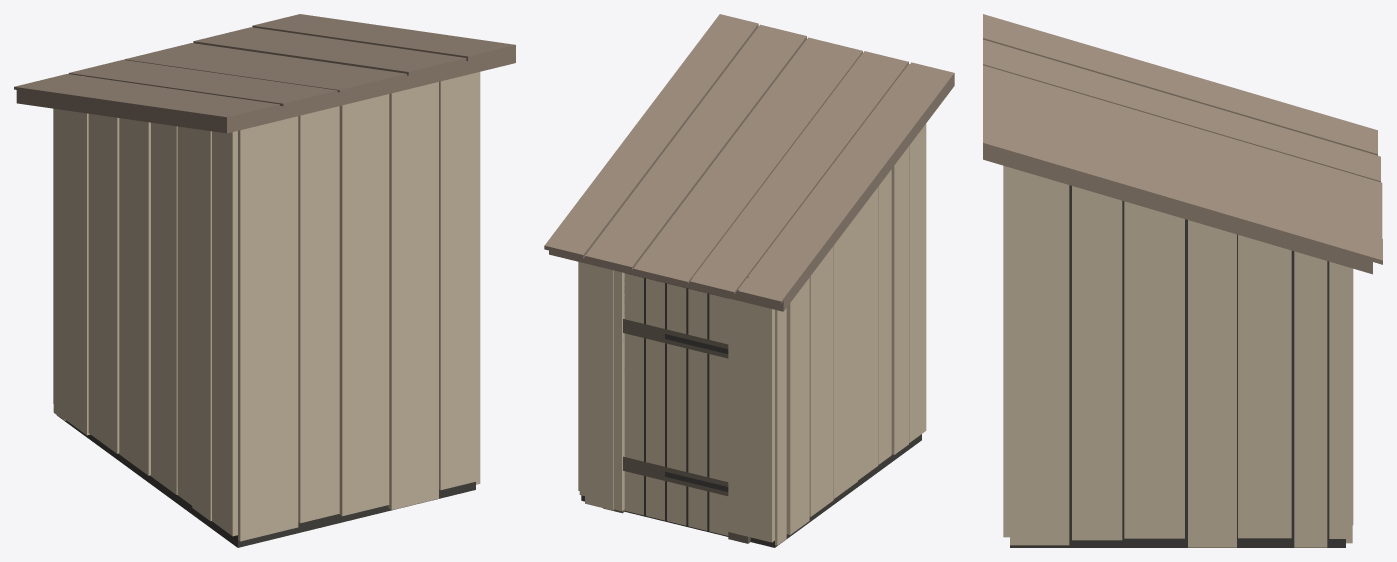
File: recon_1835_blk_lake_market_a3_07__inferred_1835.glb
The picture shows the model from 3 angles, left to right: view 1: azimuth 30°, elevation 25°; view 2: azimuth 150°, elevation 25°; view 3: azimuth 270°, elevation 25°; orthographic projection. The views are drawn at different scales.
Visible parts, largest first — view 1: recon_1835_blk_lake_market_a3_07__inferred_1835; view 2: recon_1835_blk_lake_market_a3_07__inferred_1835; view 3: recon_1835_blk_lake_market_a3_07__inferred_1835.
Part boxes in pixels (bbox=[...]): recon_1835_blk_lake_market_a3_07__inferred_1835: bbox=[14, 14, 515, 547]; recon_1835_blk_lake_market_a3_07__inferred_1835: bbox=[544, 14, 954, 547]; recon_1835_blk_lake_market_a3_07__inferred_1835: bbox=[983, 14, 1382, 547].
Bounding box in the file's own units: 1.91 × 2.84 × 2.47.
